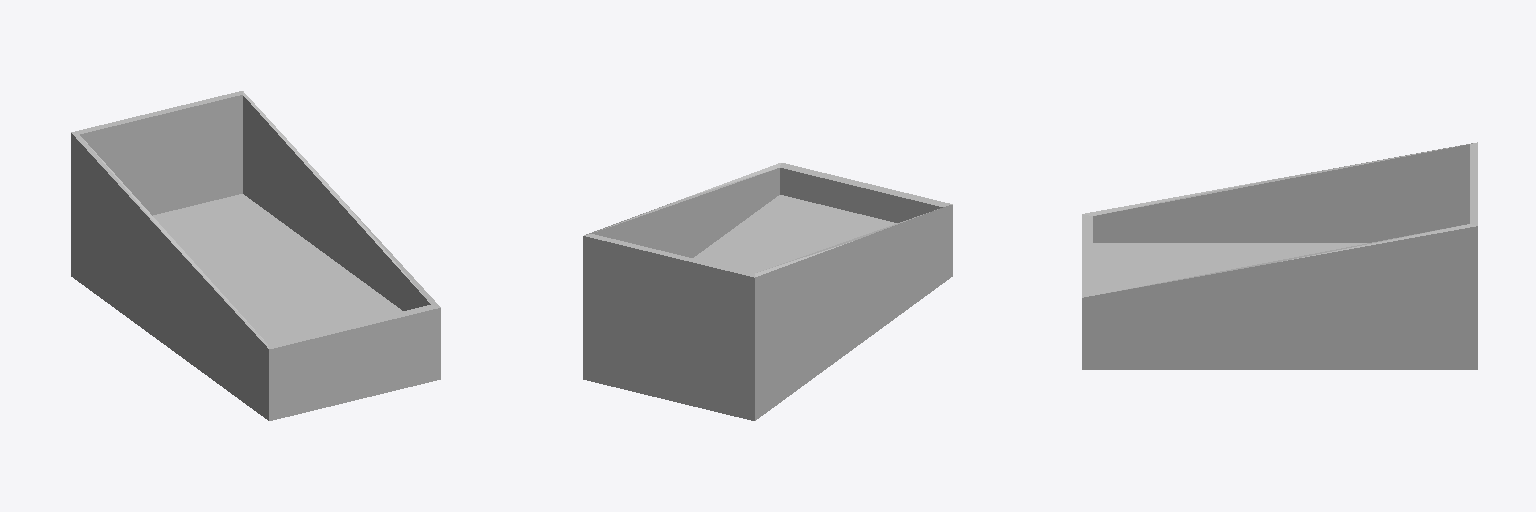
Rendered from Pinball.obj.
The picture shows the model from 3 angles: view 1: azimuth 30°, elevation 25°; view 2: azimuth 150°, elevation 25°; view 3: azimuth 270°, elevation 25°; orthographic projection.
Visible parts, largest first — view 1: Pinball_Cube; view 2: Pinball_Cube; view 3: Pinball_Cube.
Part boxes in pixels (x1,y1,x2,y2): Pinball_Cube: (71, 91, 440, 420); Pinball_Cube: (583, 163, 952, 420); Pinball_Cube: (1082, 142, 1477, 369).
Bounding box in the file's own units: 5 × 4 × 10.